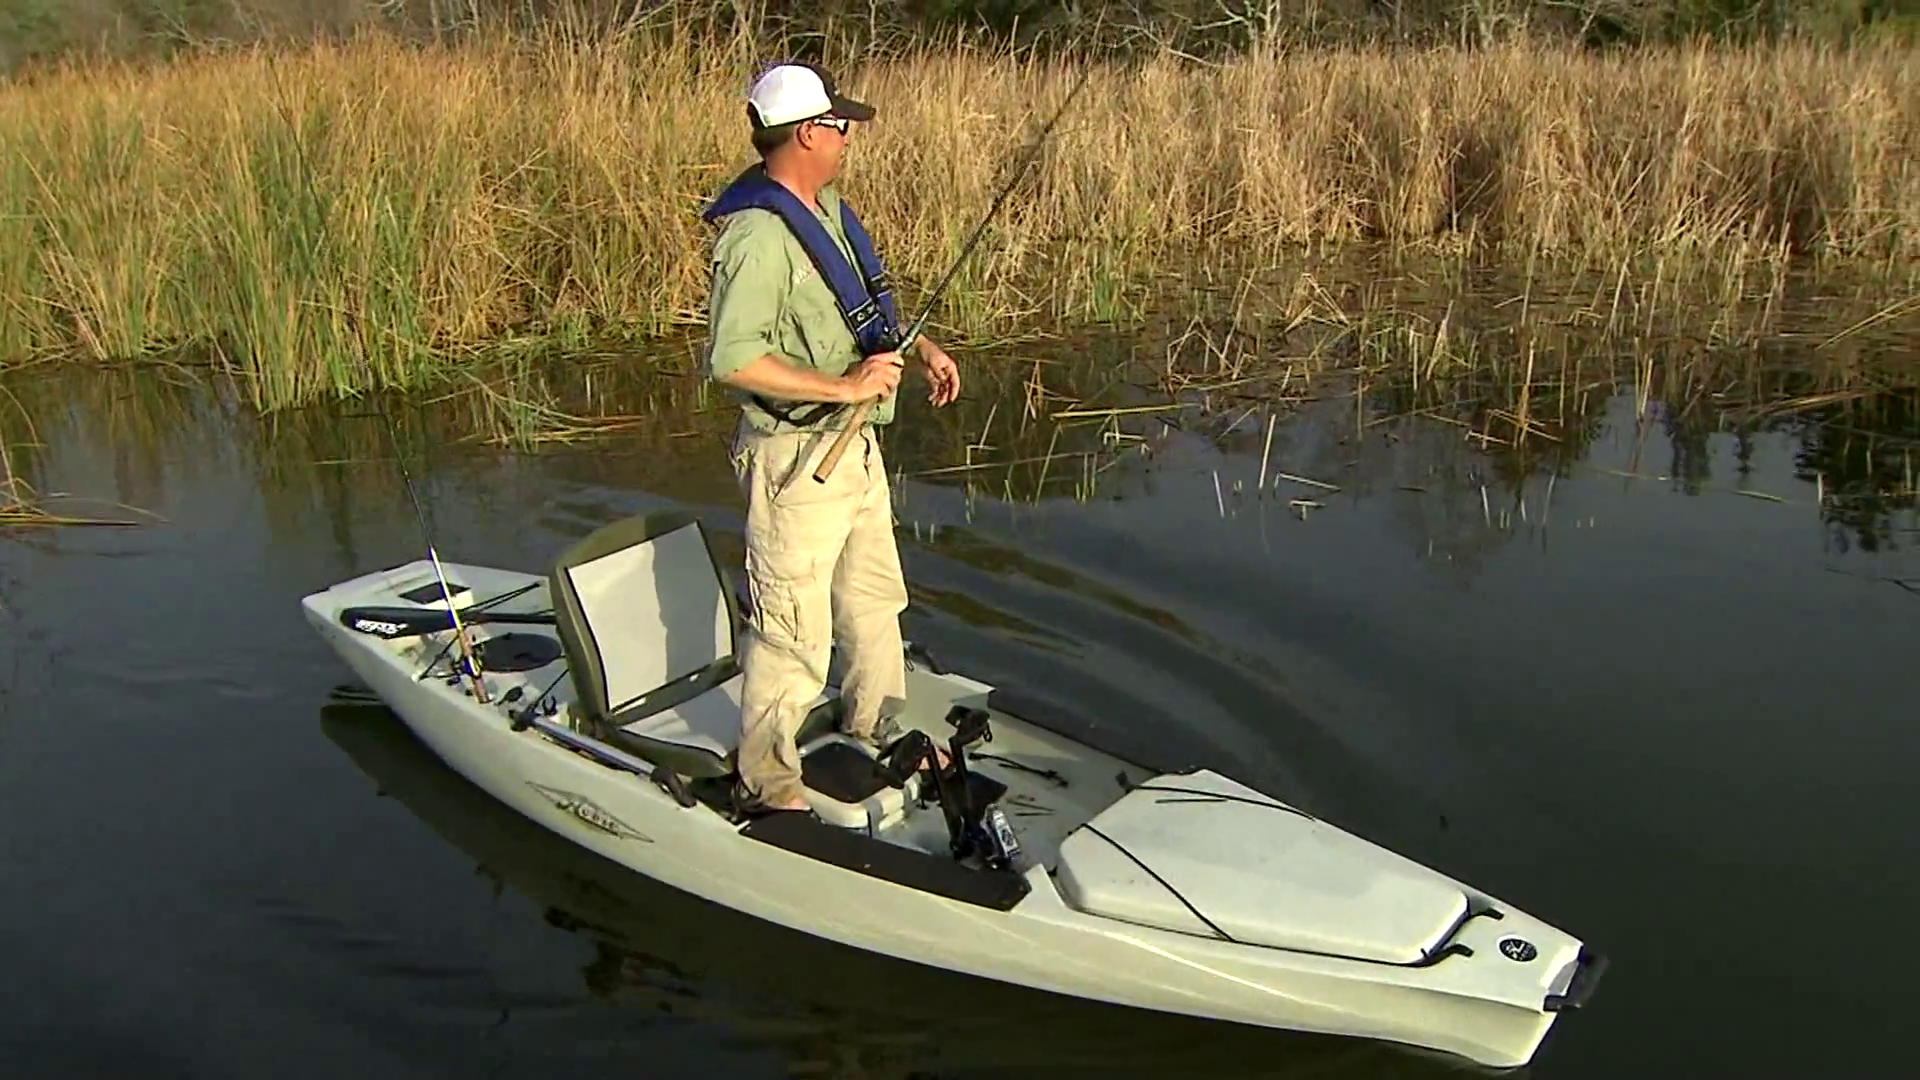person: (702, 65, 961, 811)
